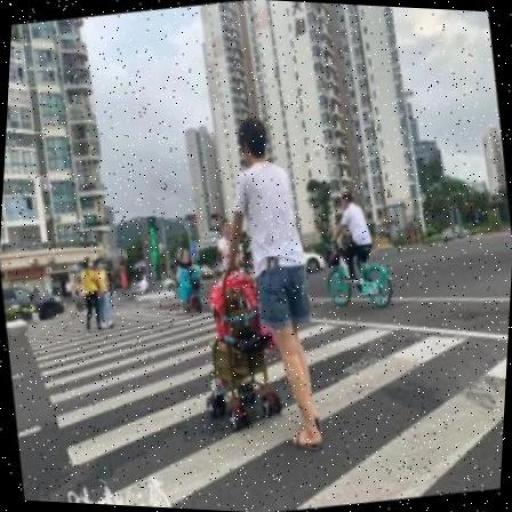person: (203, 112, 339, 450), (76, 256, 107, 334), (89, 256, 118, 329)
